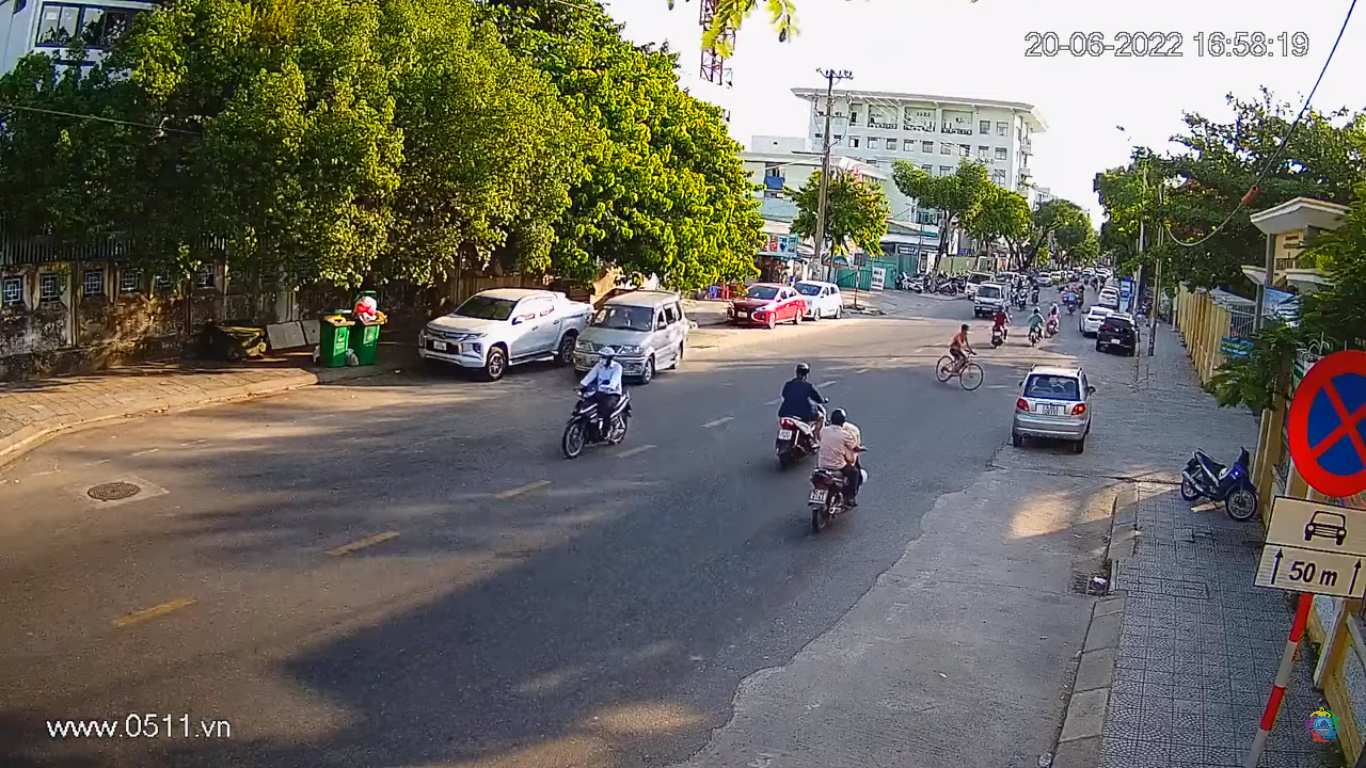car: (567, 289, 692, 385)
